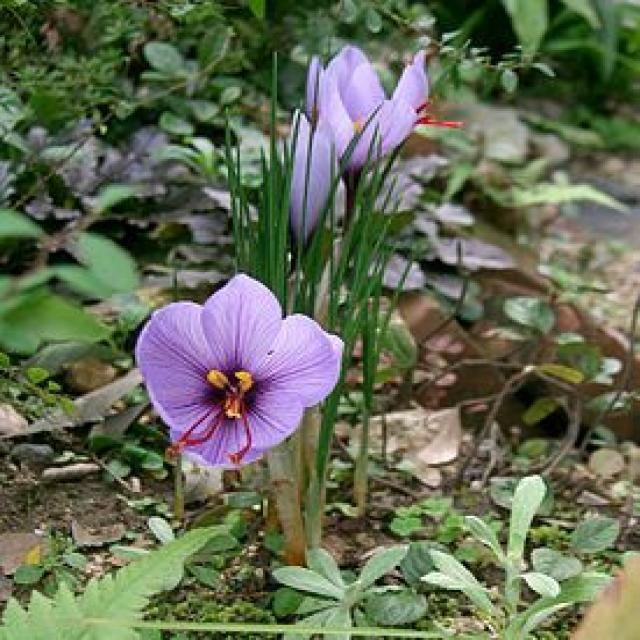Flower: (137, 273, 345, 466)
stigma: (159, 405, 220, 469), (174, 404, 230, 452), (227, 397, 257, 467), (415, 115, 467, 132)
